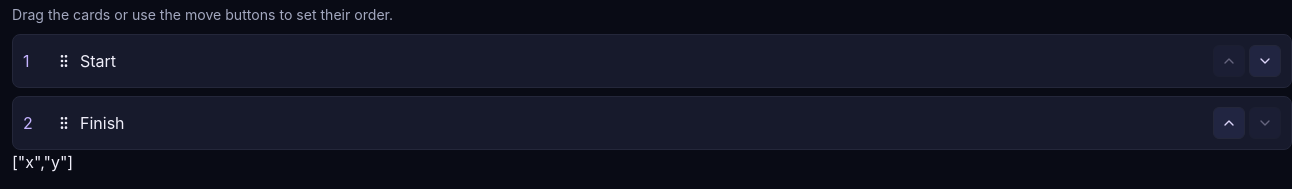
Test: reorders process cards using accessible move buttons
Click the button named "Move Finish up". click: (1229, 123)
box: left=1213, top=107, right=1245, bottom=139
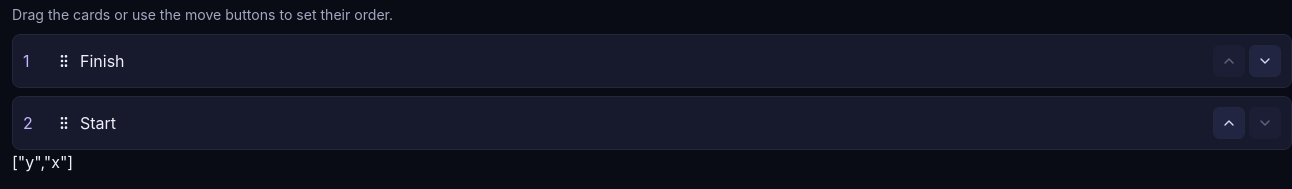
Expected: the text "[\"y\",\"x\"]" is shown, left=12, top=152, right=73, bottom=172
